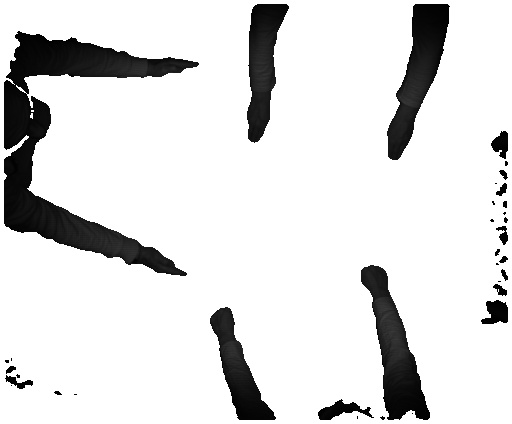fist: (208, 304, 247, 339), (360, 264, 391, 296)
hand: (384, 115, 418, 159), (240, 102, 271, 143)
spine: (141, 240, 191, 279), (149, 56, 199, 79)
